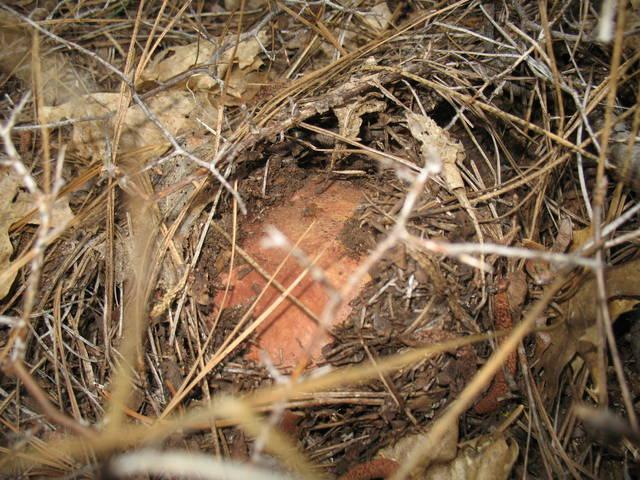edible_mushroom: (208, 169, 380, 376)
